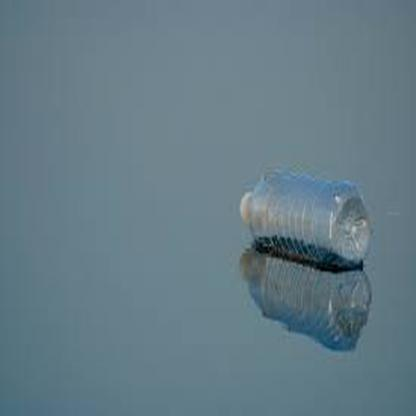plastic bottle: (239, 170, 371, 270)
